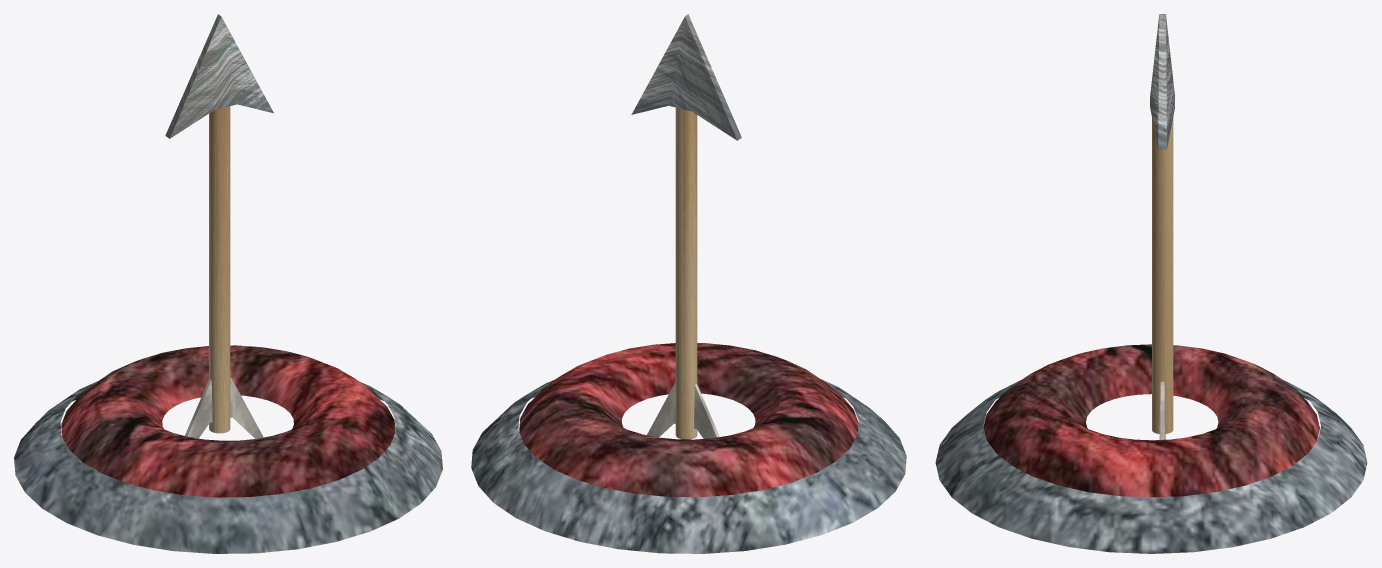
Rendered from Arrow&Shooter.fbx.
3 renders of one model, left to right at view 1: azimuth 30°, elevation 25°; view 2: azimuth 150°, elevation 25°; view 3: azimuth 270°, elevation 25°, orthographic.
Parts seen in each view (by area): view 1: Arrow_Shooter, Arrow; view 2: Arrow_Shooter, Arrow; view 3: Arrow_Shooter, Arrow.
Part boxes in pixels (x1,y1,x2,y2): Arrow_Shooter: [14, 345, 442, 553]; Arrow: [165, 14, 273, 438]; Arrow_Shooter: [471, 343, 906, 553]; Arrow: [631, 14, 741, 439]; Arrow_Shooter: [935, 344, 1367, 553]; Arrow: [1150, 14, 1174, 439].
Size of the model in its own units: 4.02 by 4.66 by 4.02.
